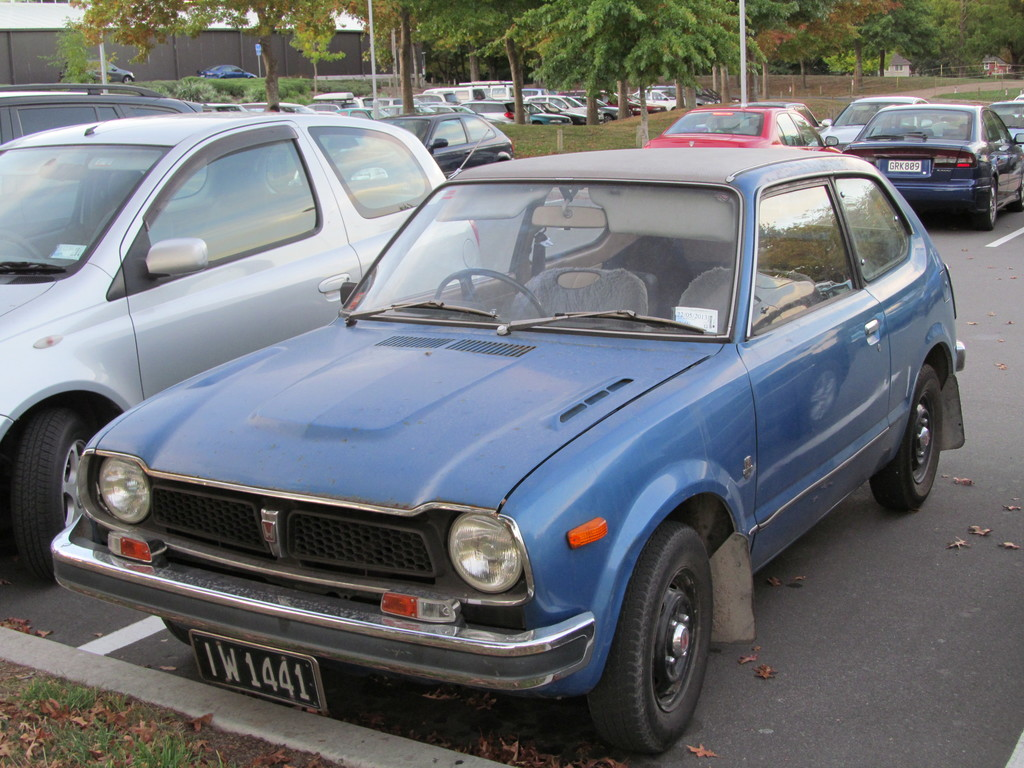Car: (0, 84, 1023, 756), (57, 60, 135, 84), (196, 63, 257, 80)
